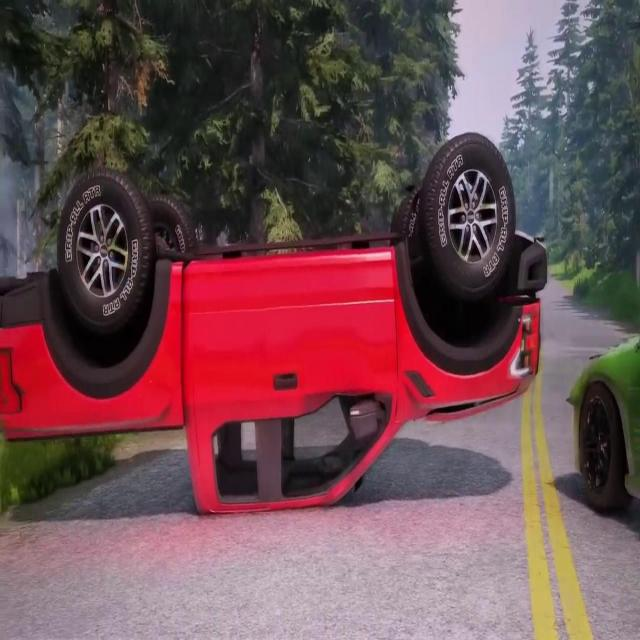accident: (0, 127, 552, 529)
